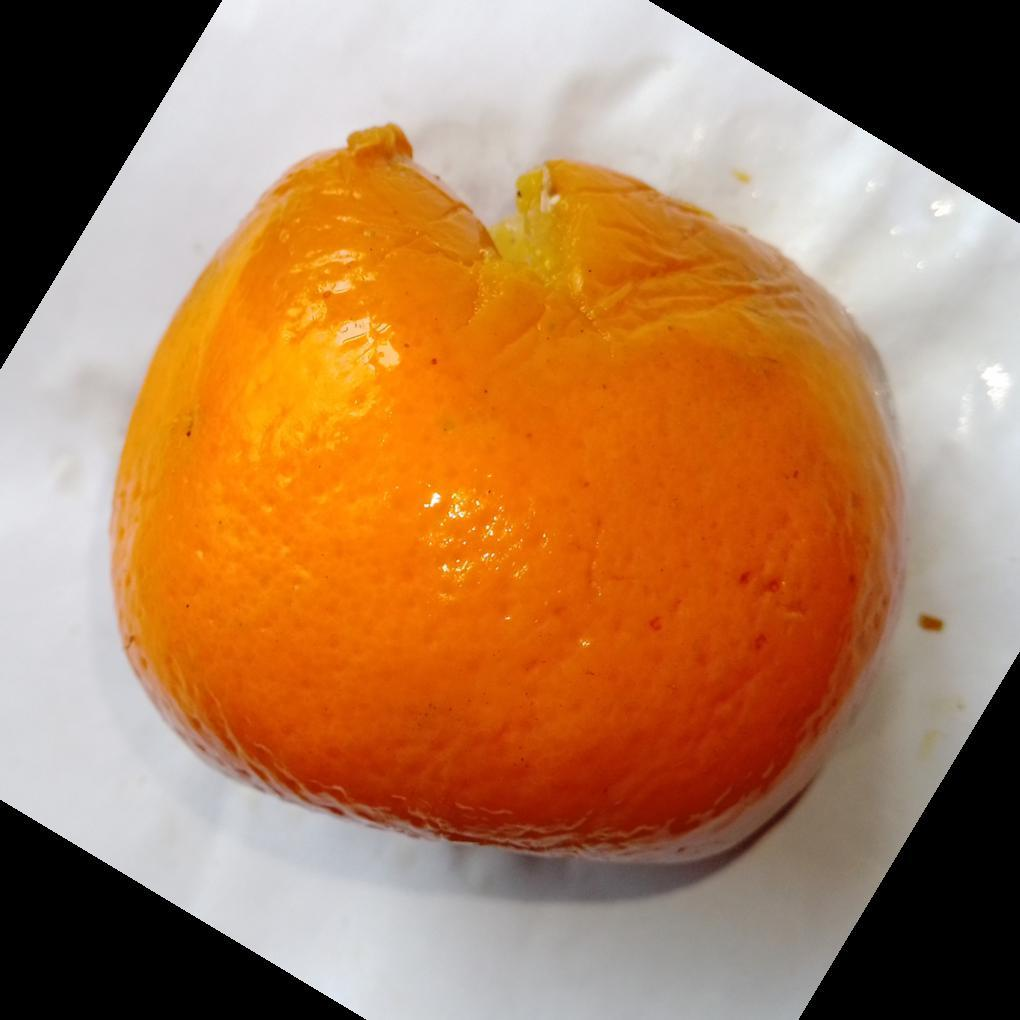FreshOrange: (100, 123, 908, 871)
